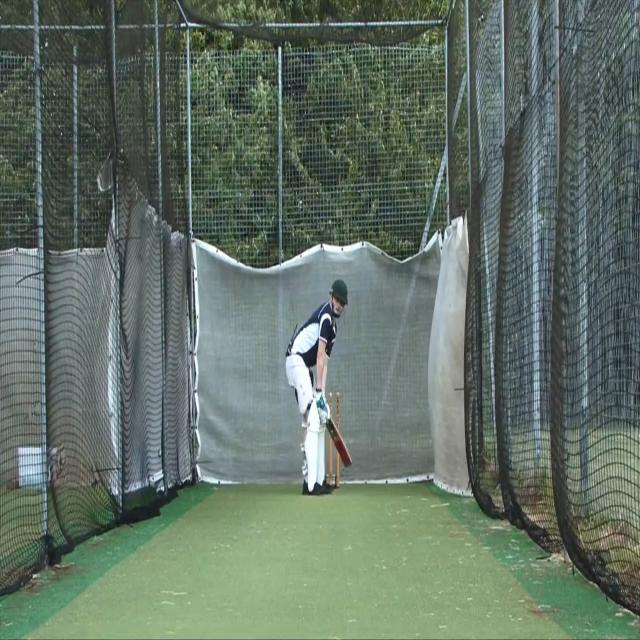batsman: (285, 276, 354, 497)
